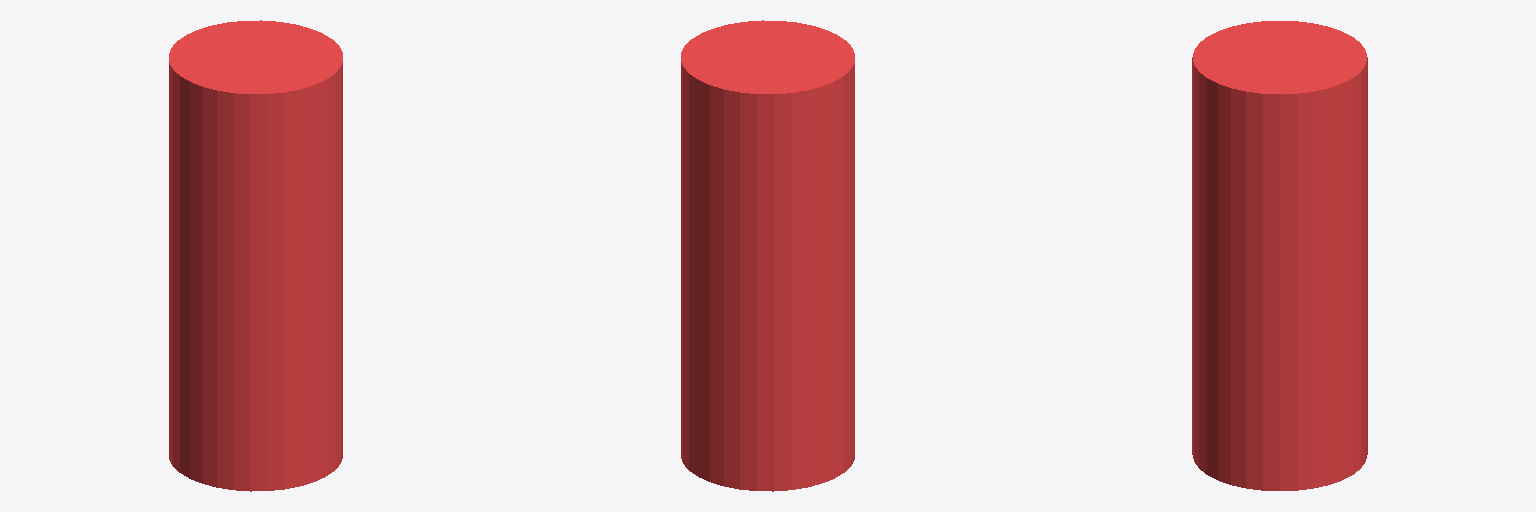
URDF robot description (cylinder.urdf):
<?xml version="1.0" encoding="UTF-8"?>

<robot name="cylinder.urdf">
  <link name="baseLink">
    <contact>
      <lateral_friction value="1.0"/>
      <rolling_friction value="0.0001"/>
      <inertia_scaling value="3.0"/>
    </contact>
    <inertial>
      <origin rpy="0 0 0" xyz="0.05 0 0"/>
       <mass value="0.1"/>
       <inertia ixx="0.1" ixy="0" ixz="0.1" iyy="0" iyz="0.1" izz="0"/>
    </inertial>
    <visual>
      <origin rpy="0 0 0" xyz="0.05 0 0"/>
      <geometry>
        <cylinder length="0.1" radius="0.02"/>
      </geometry>
      <material name="red">
        <color rgba="1 0.3412 0.3490 1"/>
      </material>
    </visual>
    <collision>
      <origin rpy="0 0 0" xyz="0.05 0 0"/>
      <geometry>
	 	    <cylinder length="0.1" radius="0.02"/>
      </geometry>
    </collision>
  </link>
</robot>

--- What the picture shows (computed from the rendered views, not written in the file) ---
Views: 3 orthographic renders of the robot side by side, from view 1: azimuth 30°, elevation 25°; view 2: azimuth 150°, elevation 25°; view 3: azimuth 270°, elevation 25°.
Model cylinder.urdf with 1 links and 0 joints (none), rooted at baseLink, posed every joint at zero.
Links seen in each view (by area): view 1: baseLink; view 2: baseLink; view 3: baseLink.
Boxes of the visible links, x1,y1,x2,y2 form: baseLink: (169, 20, 342, 491); baseLink: (681, 20, 854, 491); baseLink: (1192, 21, 1367, 490).
Bounding box of the posed robot: 0.04 × 0.04 × 0.1 m (x, y, z).
Geometry: primitives only (box / cylinder / sphere), no mesh files.